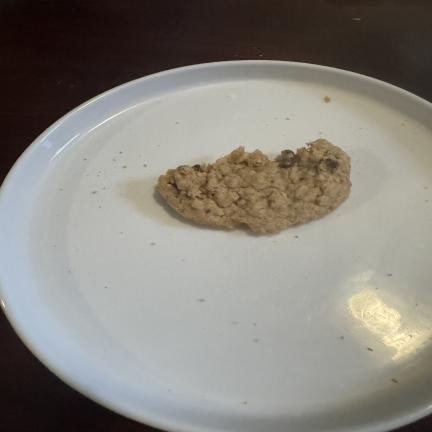cookie: (157, 140, 351, 233)
